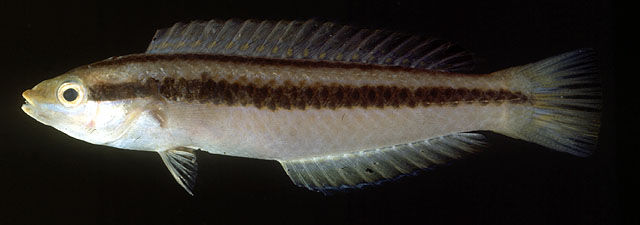fish: (21, 18, 597, 198)
